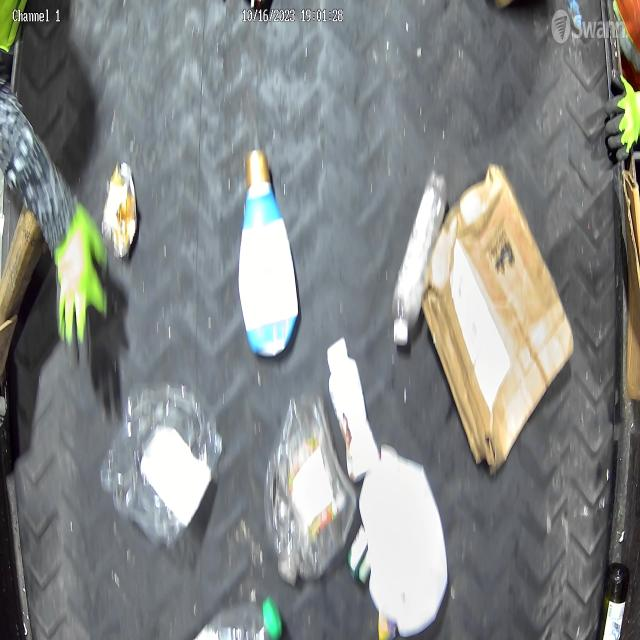can: (101, 161, 139, 256)
milk_jug: (359, 444, 448, 639)
non_white_jug: (239, 148, 302, 359)
plastic_bottle: (98, 380, 222, 543), (264, 391, 356, 589), (390, 168, 448, 345), (194, 593, 284, 640)
